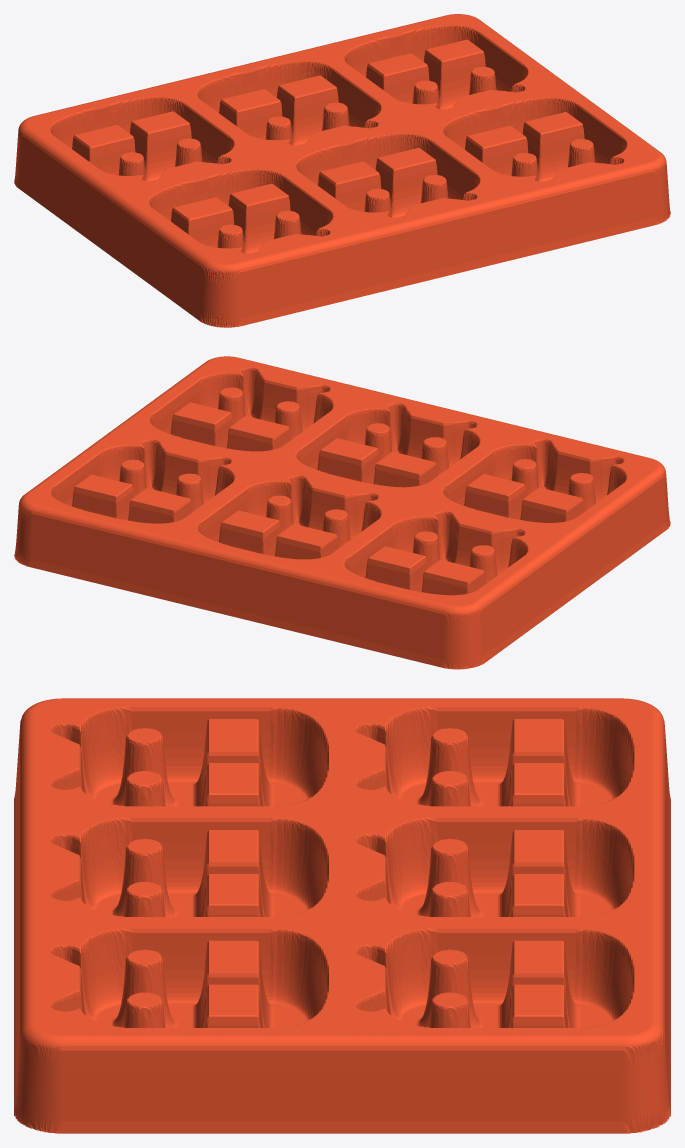
Rendered from mold.glb.
3 views of the same model, one above another, from view 1: azimuth 30°, elevation 25°; view 2: azimuth 150°, elevation 25°; view 3: azimuth 270°, elevation 25° (orthographic). The views are drawn at different scales.
Visible parts, largest first — view 1: geometry_0; view 2: geometry_0; view 3: geometry_0.
Part boxes in pixels (left/top/right/bottom): geometry_0: left=14, top=14, right=670, bottom=327; geometry_0: left=14, top=356, right=670, bottom=669; geometry_0: left=14, top=698, right=670, bottom=1133.
Bounding box in the file's own units: 0.155 × 0.0185 × 0.1222.
